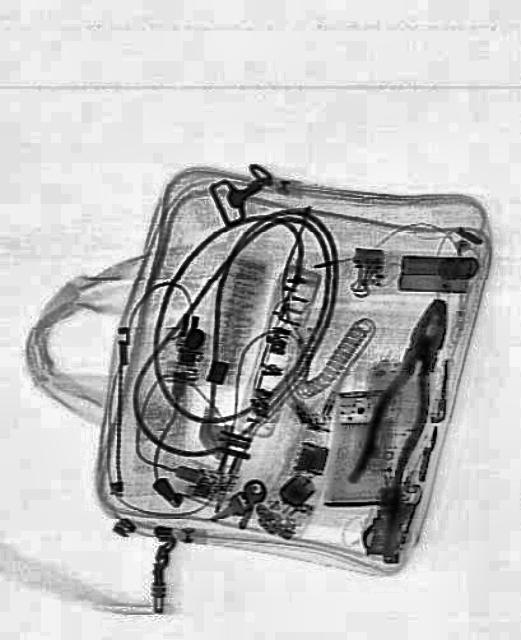Pliers: (348, 288, 464, 500)
